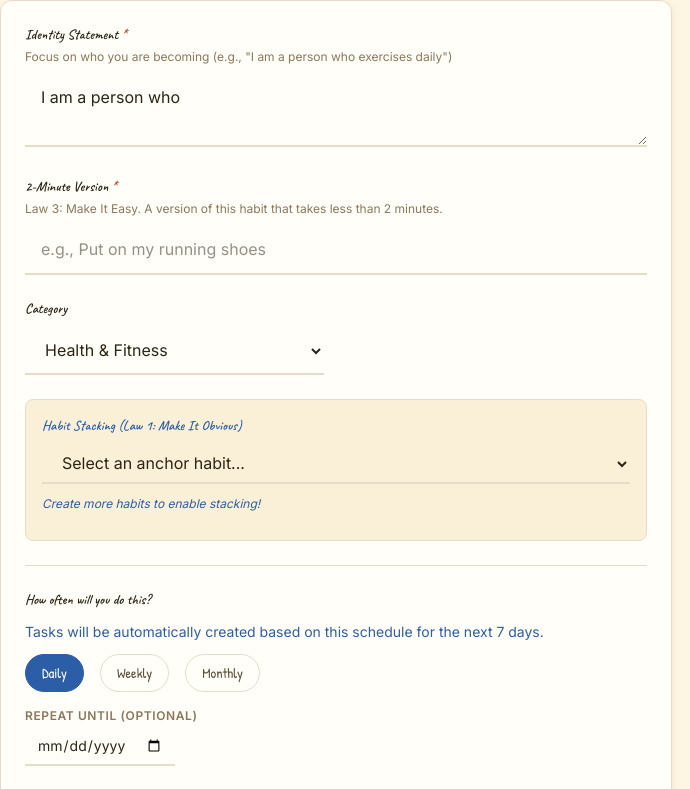
Scenario: HabitForm Component › Recurring Schedule Builder › shows weekly days buttons when weekly is selected
Click the radio button labelled "Weekly": x=134, y=673 100,654 -> 169,692
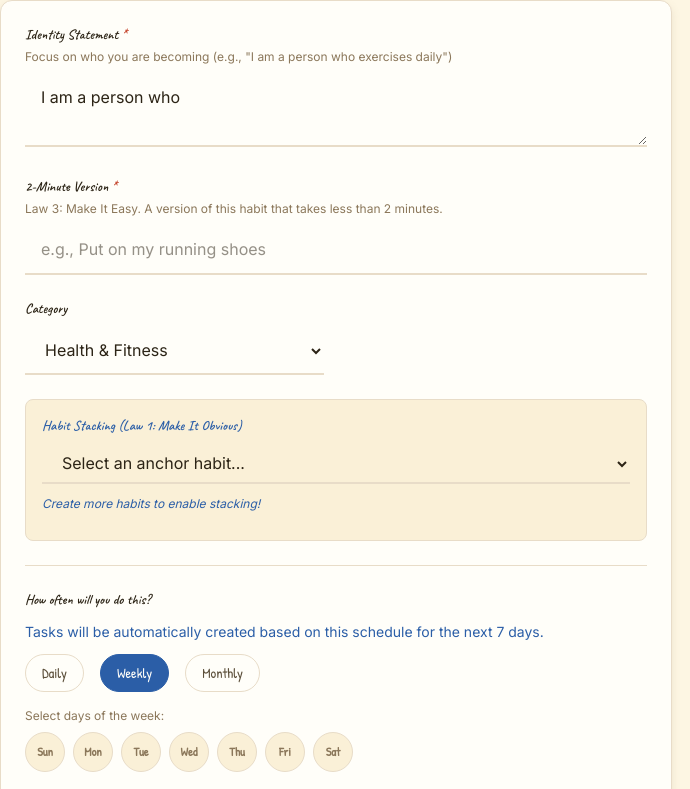
Expected: the button "Mon" is shown, 73,732 -> 113,772
Expected: the button "Fri" is shown, 265,732 -> 305,772
